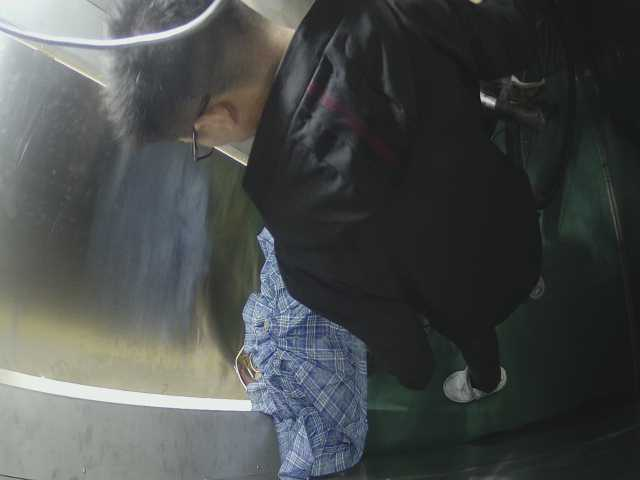person: (115, 1, 566, 415)
